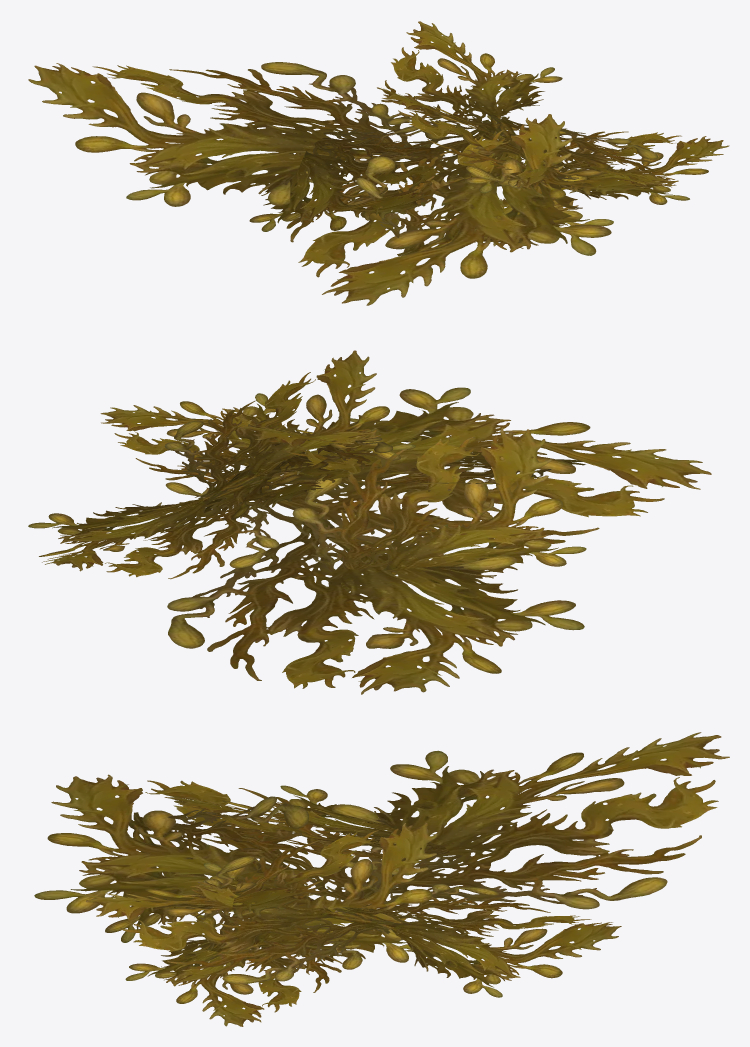
3 renders of one model, top to bottom at view 1: azimuth 30°, elevation 25°; view 2: azimuth 150°, elevation 25°; view 3: azimuth 270°, elevation 25°, orthographic. The views are drawn at different scales.
Bounding box in the file's own units: 5 × 0.6595 × 5.27.
1 material, 1 textured.
